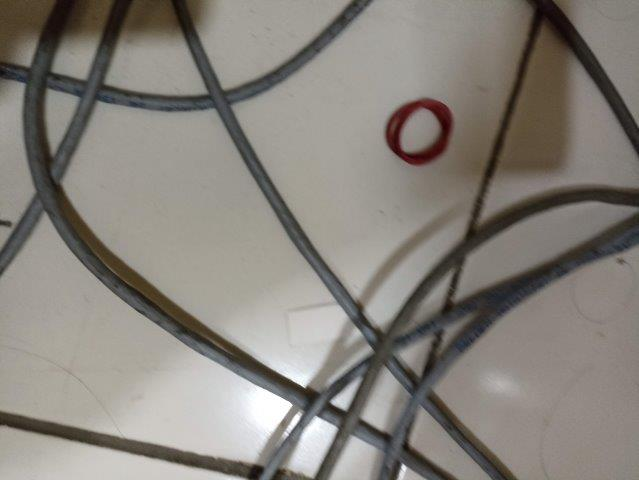karet: (385, 97, 453, 167)
